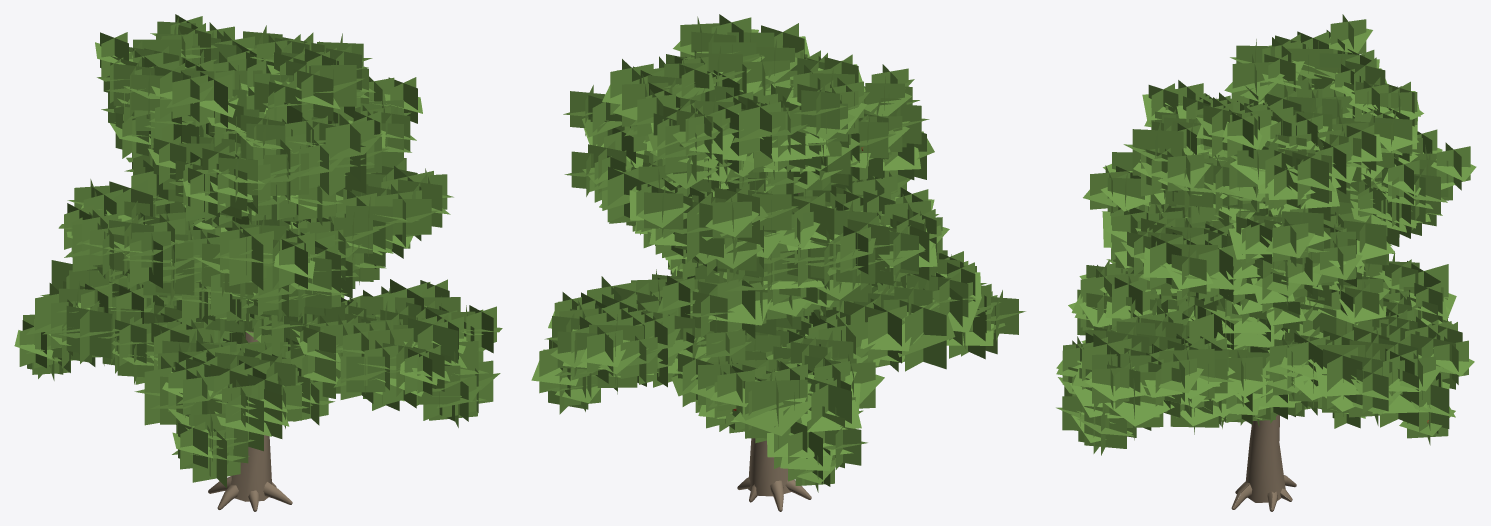
File: pommier_3_f2_jeu.glb
The picture shows the model from 3 angles, left to right: view 1: azimuth 30°, elevation 25°; view 2: azimuth 150°, elevation 25°; view 3: azimuth 270°, elevation 25°; orthographic projection. The views are drawn at different scales.
Visible parts, largest first — view 1: Pommier_T3_f2_Leger; view 2: Pommier_T3_f2_Leger; view 3: Pommier_T3_f2_Leger.
Boxes of the visible parts, left/top/right/bottom form: Pommier_T3_f2_Leger: left=14, top=14, right=502, bottom=511; Pommier_T3_f2_Leger: left=531, top=14, right=1025, bottom=511; Pommier_T3_f2_Leger: left=1056, top=14, right=1476, bottom=511.
Bounding box in the file's own units: 6.44 × 7.64 × 6.72.
